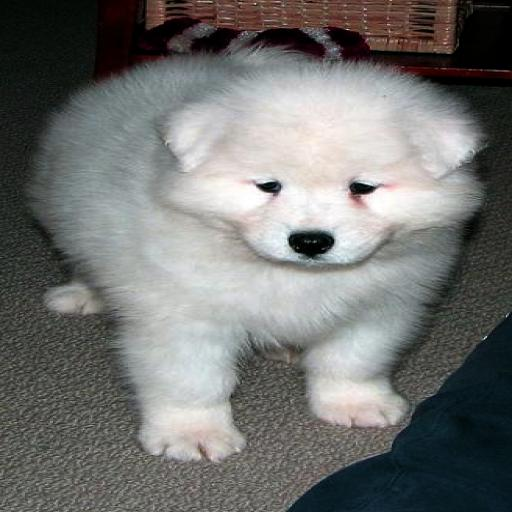dog_face: (158, 84, 480, 266)
